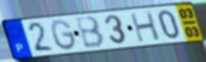0: (156, 9, 182, 40)
2: (28, 20, 55, 55)
3: (104, 14, 128, 46)
B: (74, 15, 107, 50)
G: (50, 18, 79, 52)
H: (128, 10, 163, 44)
